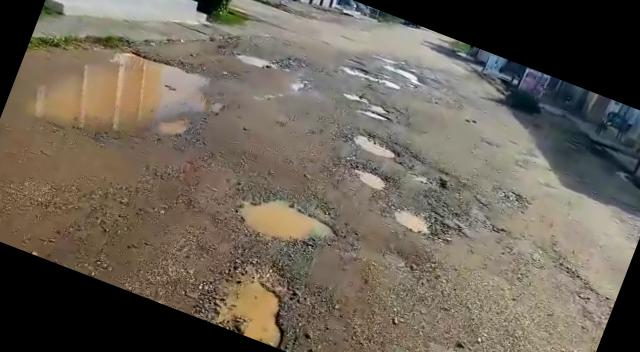pothole: (6, 14, 220, 173), (195, 249, 315, 352), (230, 182, 348, 264), (386, 200, 450, 242), (339, 156, 394, 192), (348, 127, 400, 162), (341, 61, 394, 89), (232, 48, 277, 73), (360, 106, 398, 128)
